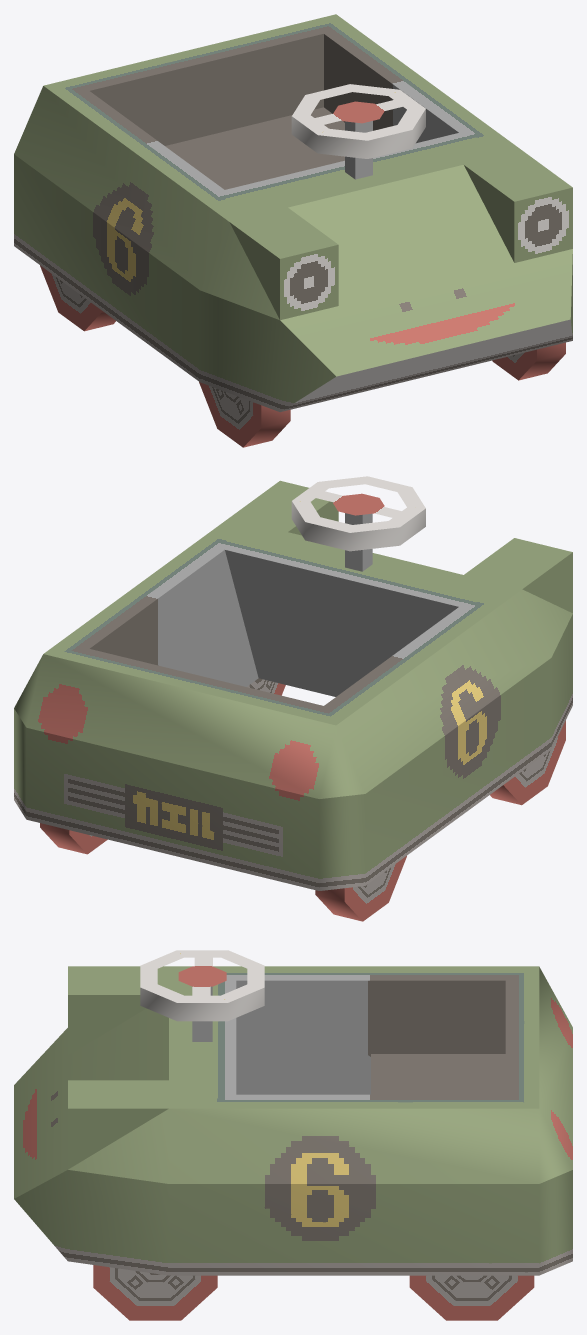
The model's file is 02f2_Froggy_Car.glb.
3 renders of one model, top to bottom at view 1: azimuth 30°, elevation 25°; view 2: azimuth 150°, elevation 25°; view 3: azimuth 270°, elevation 25°, orthographic.
Parts seen in each view (by area): view 1: part_0, part_1, part_2; view 2: part_0, part_2, part_1; view 3: part_0, part_1, part_2.
Boxes of the visible parts, x1,y1,x2,y2 form: part_0: (14,14,572,412); part_1: (199,342,565,447); part_2: (40,265,115,331); part_0: (14,476,572,890); part_2: (40,823,406,921); part_1: (247,678,565,805); part_0: (14,950,572,1275); part_1: (93,1265,217,1320); part_2: (409,1275,534,1320).
Size of the model in its own units: 0.6 by 0.4426 by 0.83.
3 materials, 3 textured.
